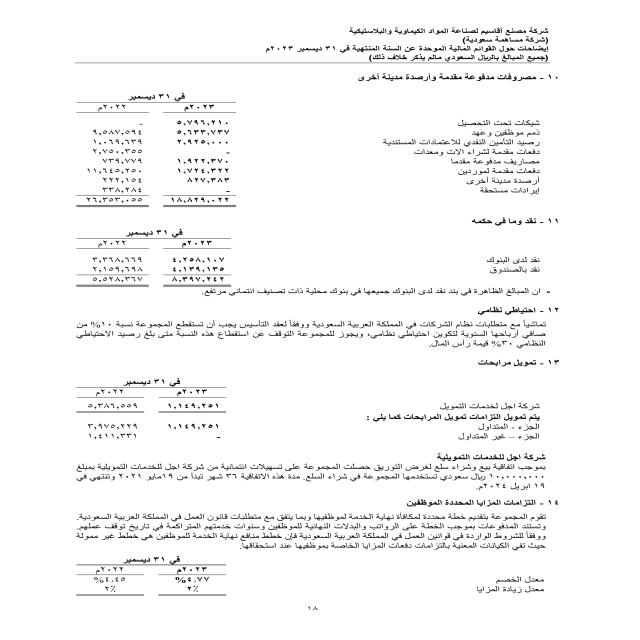notes: (418, 44, 550, 54)
table: (63, 83, 257, 217), (56, 369, 257, 452), (58, 225, 235, 288), (58, 550, 252, 602)
